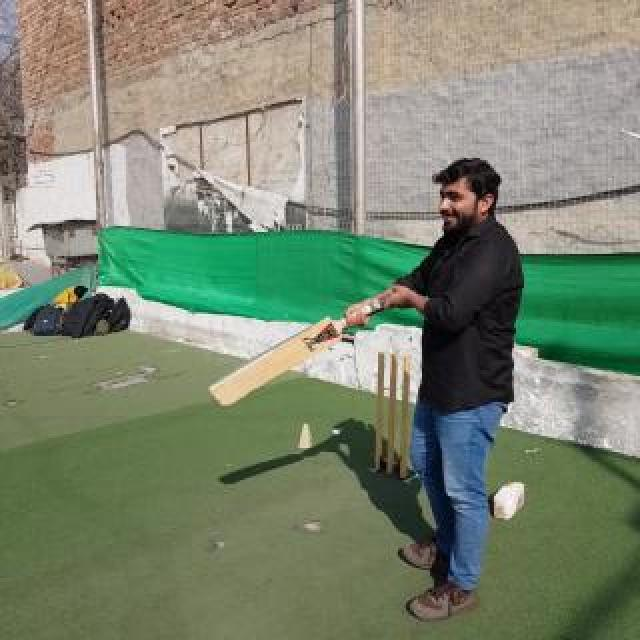bat: (210, 298, 386, 406)
